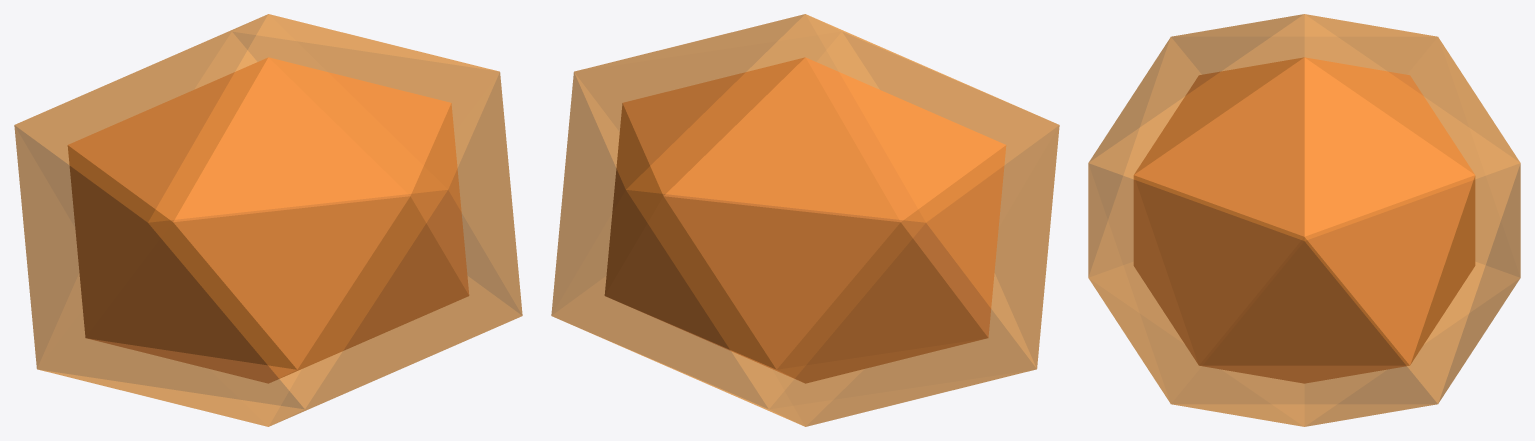
File: Enemy_Med_HeatSlime.FBX
The picture shows the model from 3 angles, left to right: view 1: azimuth 30°, elevation 25°; view 2: azimuth 150°, elevation 25°; view 3: azimuth 270°, elevation 25°; orthographic projection.
Visible parts, largest first — view 1: GeoSphere005, GeoSphere004; view 2: GeoSphere005, GeoSphere004; view 3: GeoSphere005, GeoSphere004.
Part boxes in pixels (bbox=[...]): GeoSphere005: bbox=[14, 14, 522, 426]; GeoSphere004: bbox=[67, 57, 469, 383]; GeoSphere005: bbox=[551, 14, 1059, 426]; GeoSphere004: bbox=[604, 57, 1006, 383]; GeoSphere005: bbox=[1088, 14, 1520, 426]; GeoSphere004: bbox=[1133, 57, 1475, 383].
Bounding box in the file's own units: 75.73 × 64.52 × 61.22.
